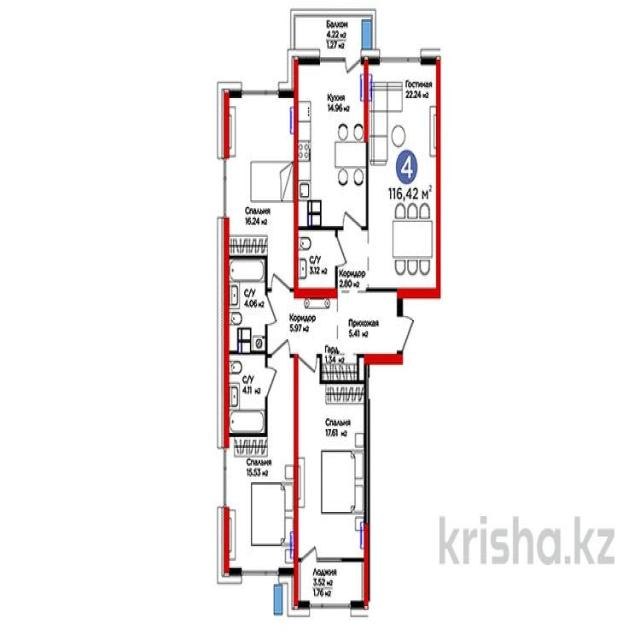balcony: (294, 555, 369, 609), (293, 10, 373, 54)
bathroom: (227, 255, 267, 353), (226, 354, 268, 429), (296, 227, 338, 296)
hallway: (264, 228, 403, 360)
kitchen: (294, 57, 369, 232)
living_room: (368, 60, 440, 293), (295, 380, 367, 560), (226, 91, 300, 255), (223, 428, 295, 577)
other: (318, 352, 368, 380)
